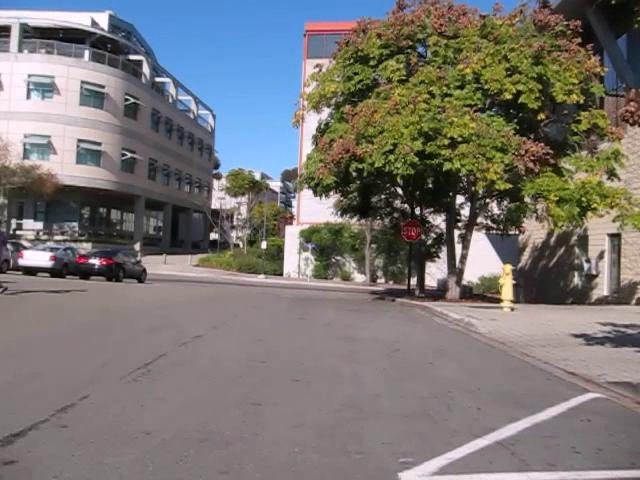stop: (399, 219, 423, 242)
